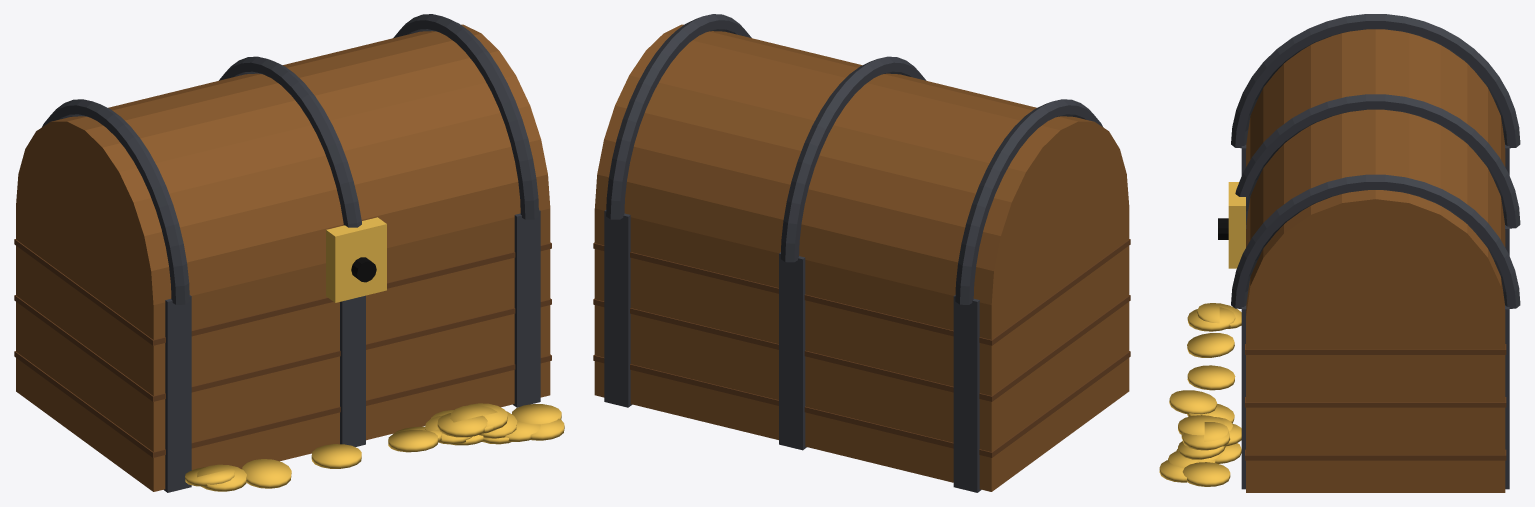
The picture shows the model from 3 angles, left to right: view 1: azimuth 30°, elevation 25°; view 2: azimuth 150°, elevation 25°; view 3: azimuth 270°, elevation 25°; orthographic projection. The views are drawn at different scales.
Parts seen in each view (by area): view 1: part_4, part_0, part_9, part_5, part_6, part_10, part_8, part_11, part_7, part_1, part_2, part_3 (+7 smaller); view 2: part_4, part_0, part_5, part_9, part_7, part_6, part_10, part_8, part_3, part_1, part_2; view 3: part_4, part_0, part_10, part_6, part_8, part_9, part_1, part_2, part_3, part_11, part_26, part_14 (+9 smaller).
Boxes of the visible parts, x1,y1,x2,y2 form: part_4: (16, 24, 550, 388); part_0: (16, 205, 550, 491); part_9: (513, 210, 540, 407); part_5: (163, 295, 191, 492); part_6: (42, 99, 189, 304); part_10: (393, 14, 538, 219); part_8: (219, 56, 361, 227); part_11: (326, 217, 386, 302); part_7: (340, 295, 365, 446); part_1: (14, 351, 551, 457); part_2: (14, 295, 551, 401); part_3: (14, 239, 551, 345); part_4: (595, 24, 1128, 388); part_0: (594, 205, 1129, 491); part_5: (953, 295, 981, 492); part_9: (604, 210, 632, 407); part_7: (779, 252, 806, 450); part_6: (955, 99, 1103, 304); part_10: (606, 14, 751, 219); part_8: (780, 56, 926, 262); part_3: (593, 239, 1130, 345); part_1: (593, 351, 1130, 457); part_2: (593, 295, 1130, 401); part_4: (1246, 29, 1505, 433); part_0: (1246, 316, 1505, 492); part_10: (1231, 174, 1520, 308); part_6: (1231, 14, 1520, 148); part_8: (1235, 94, 1520, 228); part_9: (1241, 305, 1509, 489); part_1: (1245, 449, 1506, 460); part_2: (1245, 397, 1506, 407); part_3: (1245, 344, 1506, 354); part_11: (1228, 182, 1245, 268); part_26: (1187, 365, 1235, 390); part_14: (1187, 333, 1234, 357).
Size of the model in its own units: 2.01 by 1.58 by 1.67.
